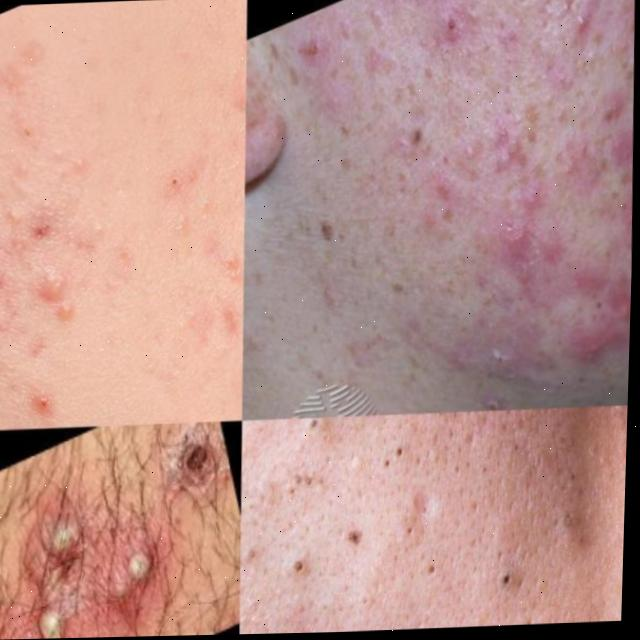Acne: (255, 0, 640, 379), (0, 25, 253, 417), (284, 408, 549, 633), (8, 507, 156, 639)
